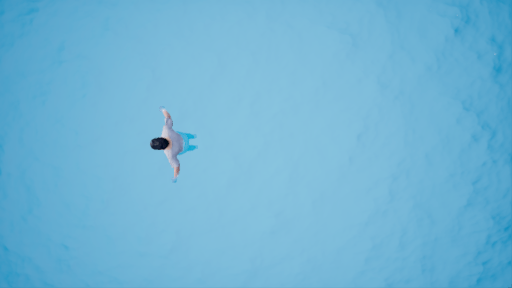person: (139, 106, 205, 182)
